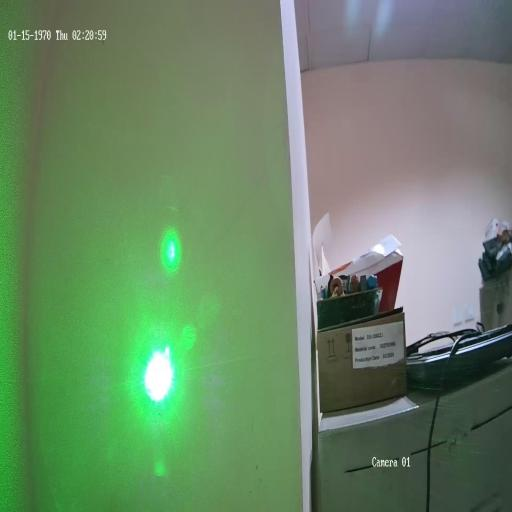laser: (140, 339, 179, 409)
